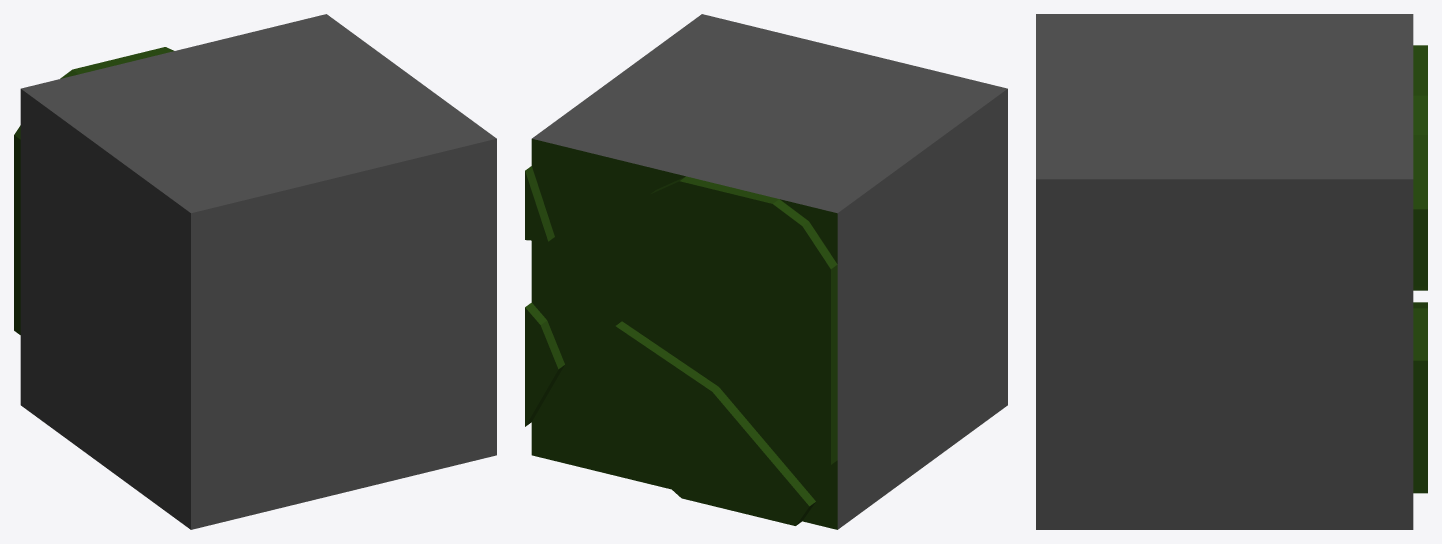
The model's file is TR Floor.fbx.
3 views of the same model, side by side, from view 1: azimuth 30°, elevation 25°; view 2: azimuth 150°, elevation 25°; view 3: azimuth 270°, elevation 25° (orthographic). The views are drawn at different scales.
Parts seen in each view (by area): view 1: Top right; view 2: Top right; view 3: Top right.
Boxes of the visible parts, left/top/right/bottom form: Top right: left=14, top=14, right=496, bottom=529; Top right: left=525, top=14, right=1007, bottom=529; Top right: left=1036, top=14, right=1427, bottom=529.
Size of the model in its own units: 100 by 99.79 by 98.74.
